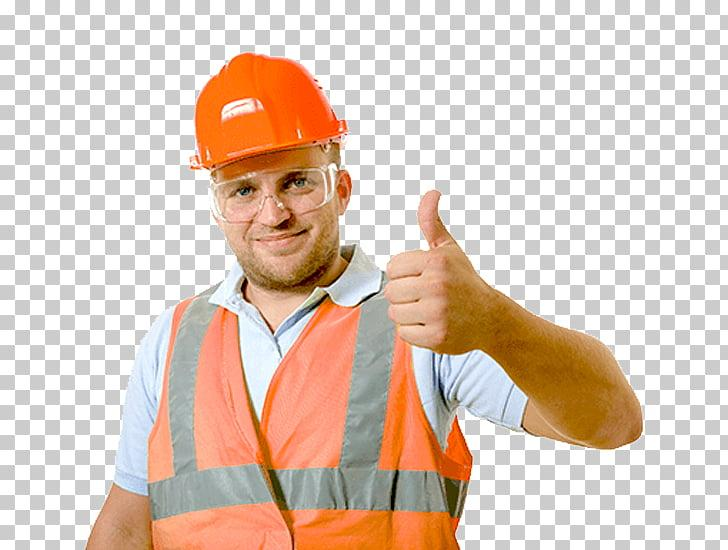helmet: (199, 55, 350, 166)
